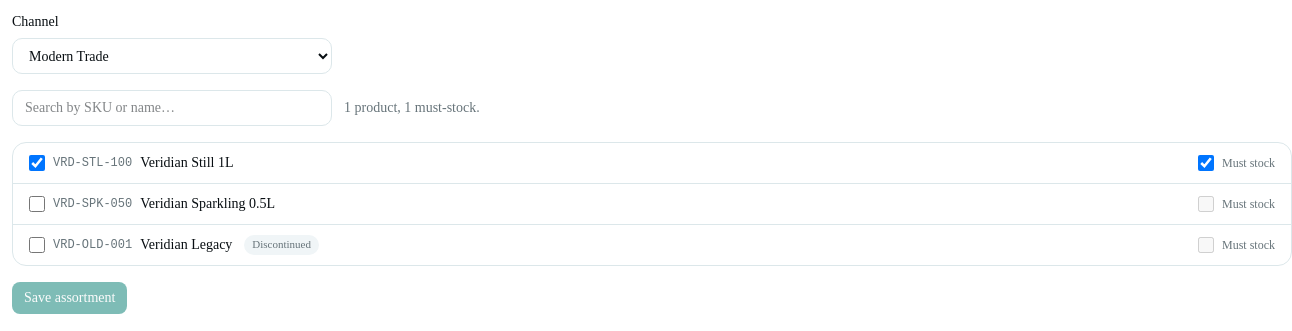
Test: <AssortmentEditor> › does not carry one channel's edits into another
The width and height of the screenshot is (1292, 331).
Expected: the button "Save assortment" is shown, x1=12 y1=282 x2=127 y2=314
Click the checkbox named "Include Veridian Sparkling 0.5L" at (37, 204), box x1=29 y1=196 x2=45 y2=212
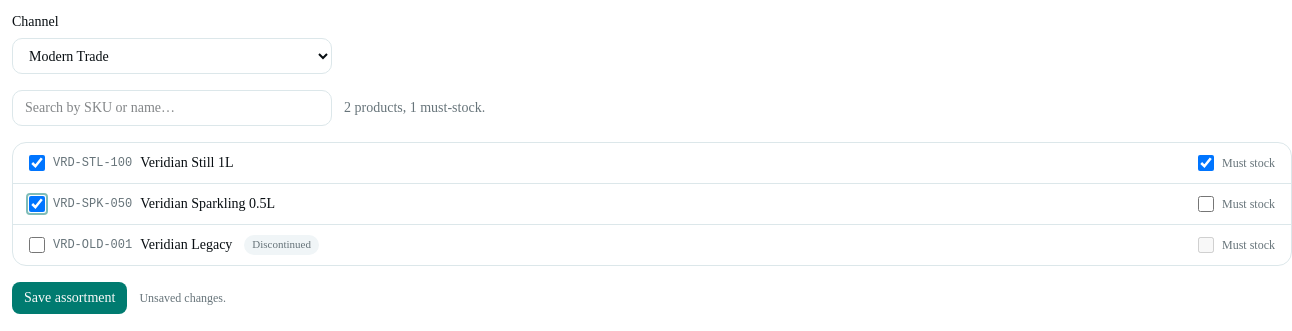
Select "HoReCa" in the dropdown labelled "Channel" at (172, 56), box x1=12 y1=38 x2=332 y2=74
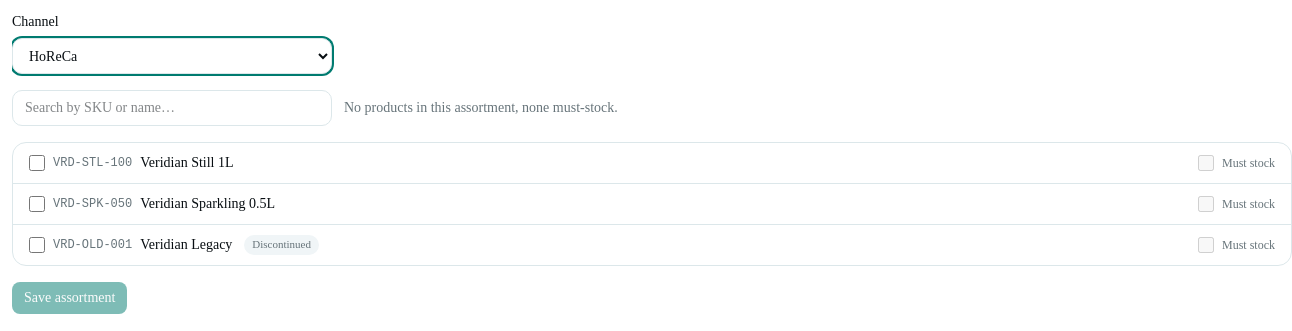
Result: the checkbox named "Include Veridian Still 1L" is not checked at x1=29 y1=155 x2=45 y2=171
Result: the checkbox named "Include Veridian Sparkling 0.5L" is not checked at x1=29 y1=196 x2=45 y2=212
Result: the button "Save assortment" is disabled at x1=12 y1=282 x2=127 y2=314
